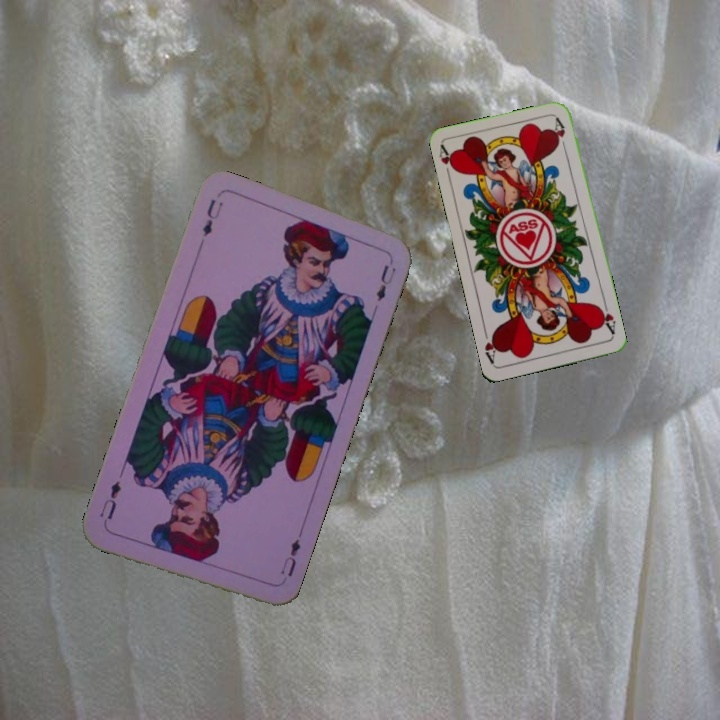EU: (276, 534, 304, 579), (198, 195, 226, 240)
HA: (594, 298, 618, 338), (435, 142, 459, 182)
